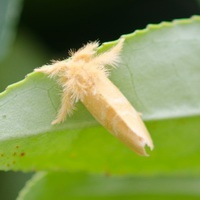insect: (34, 37, 152, 155)
